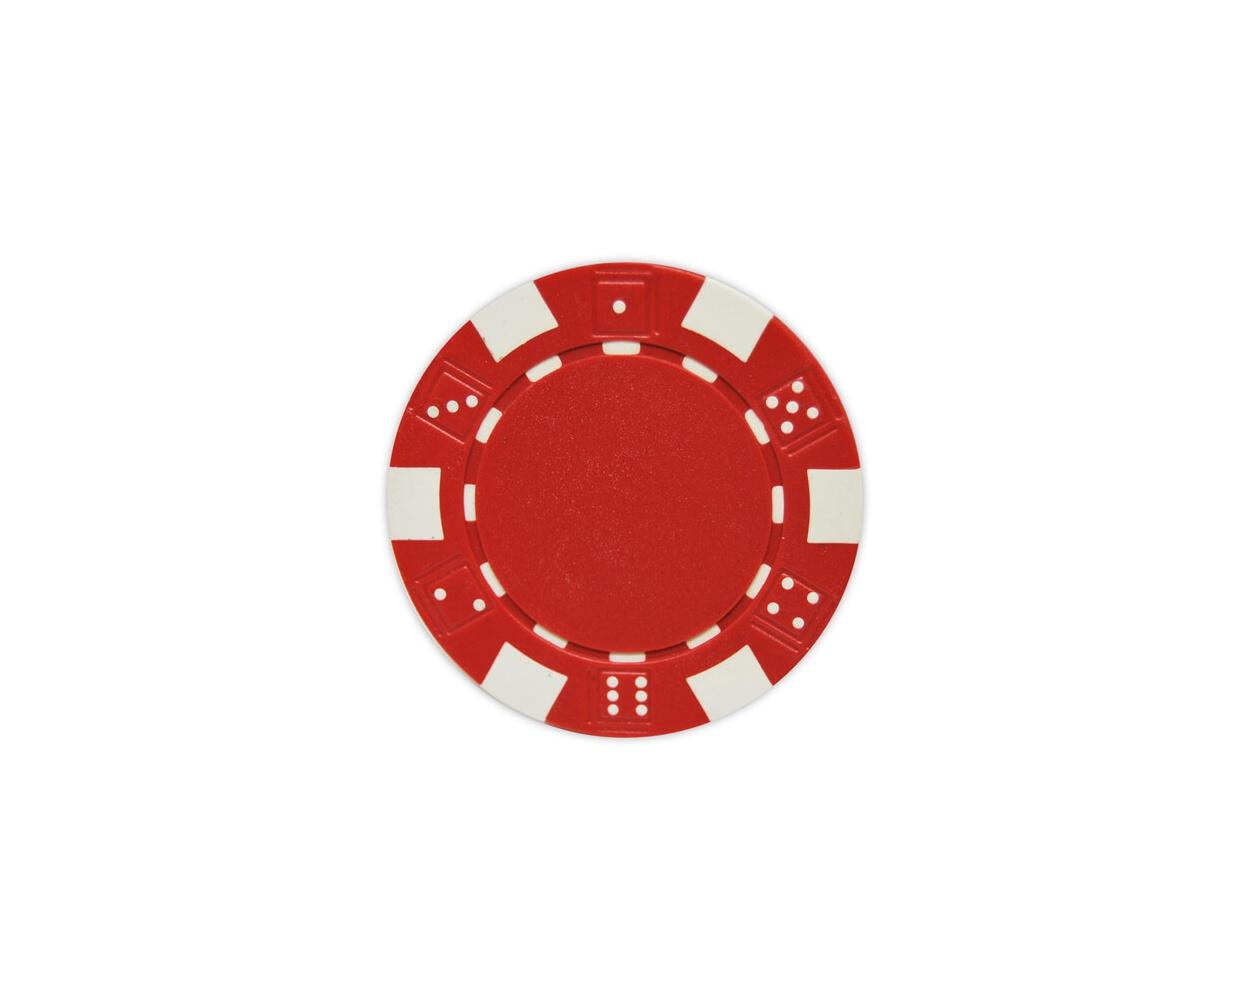chip-red: (388, 263, 862, 738)
